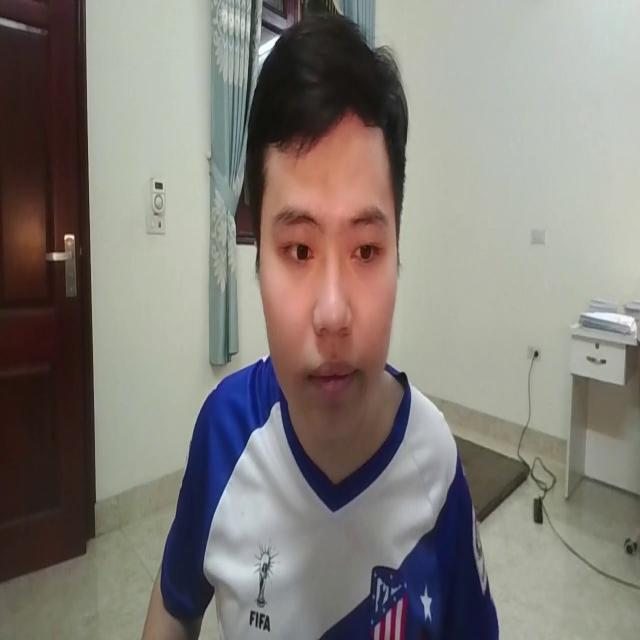student: (129, 6, 517, 640)
